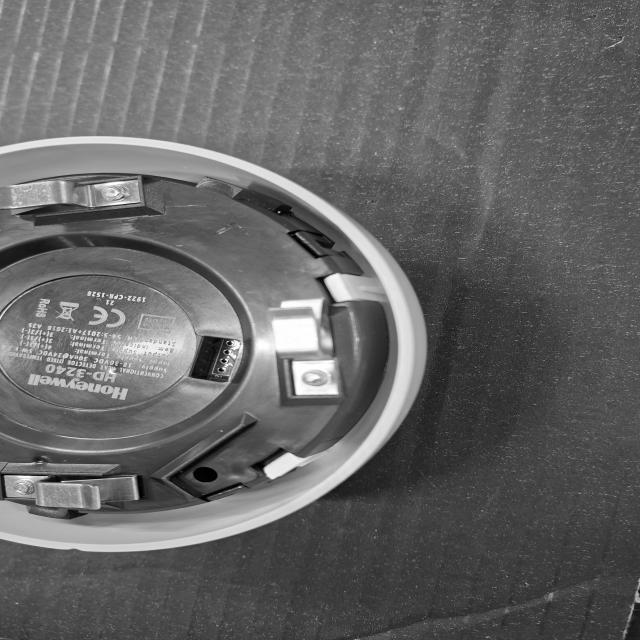yayli: (258, 289, 350, 400), (4, 466, 158, 515)
